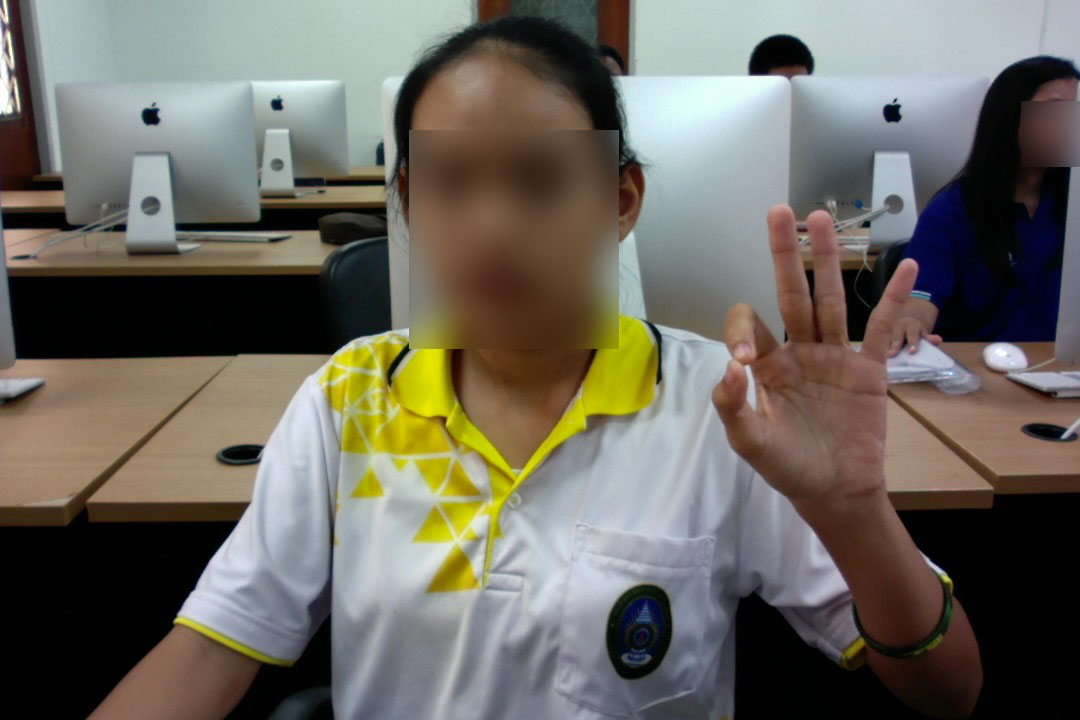for: (693, 187, 935, 532)
